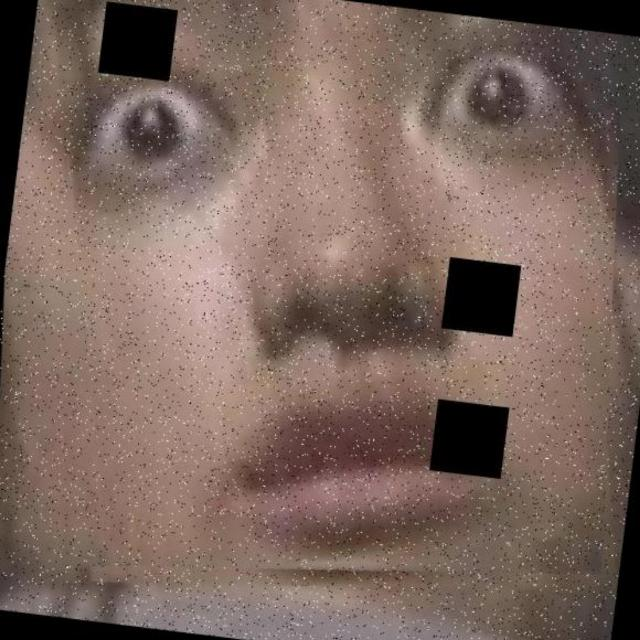Surprised: (32, 27, 619, 630)
